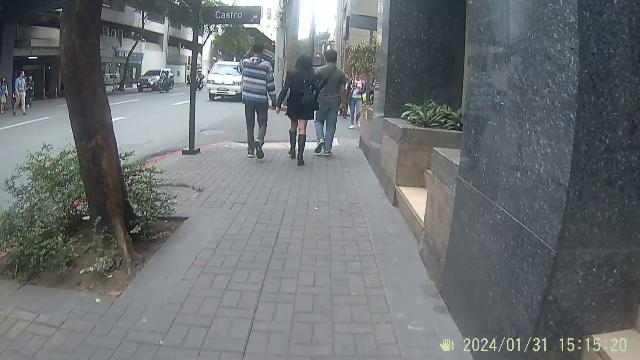street_sign: (185, 2, 272, 116)
tree: (44, 0, 162, 296)
